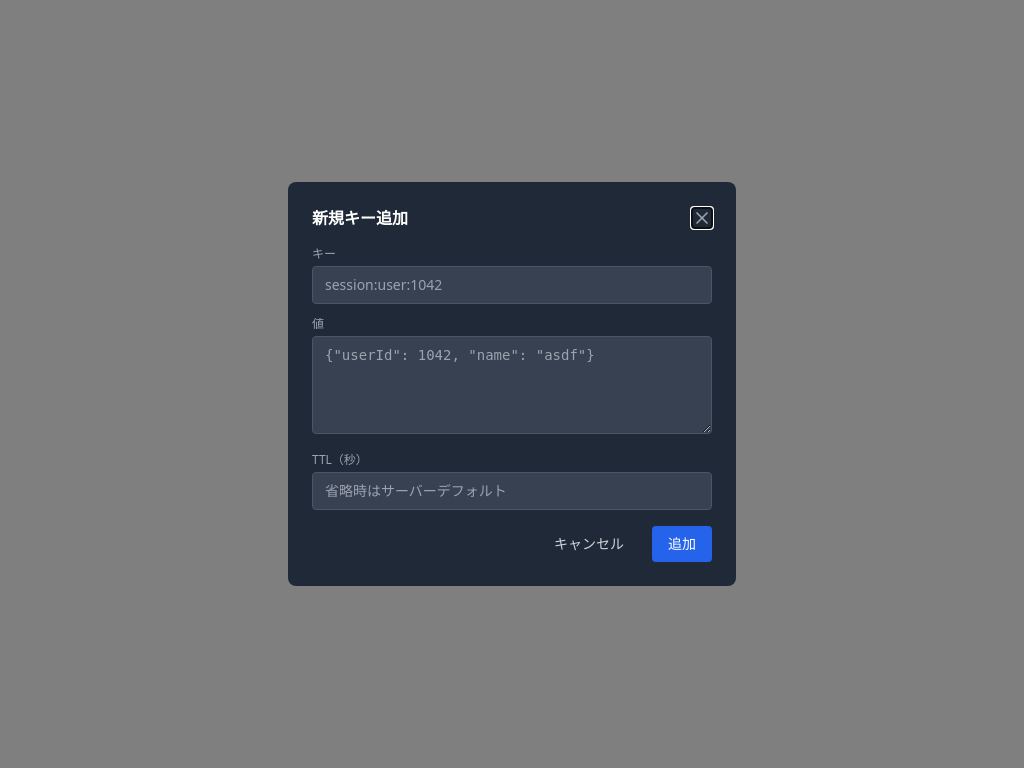
Test case: AddKeyModal › shows error for invalid TTL (negative number)
Type "my:key" into the field labelled "キー" at (512, 285), box [312,266,712,304]
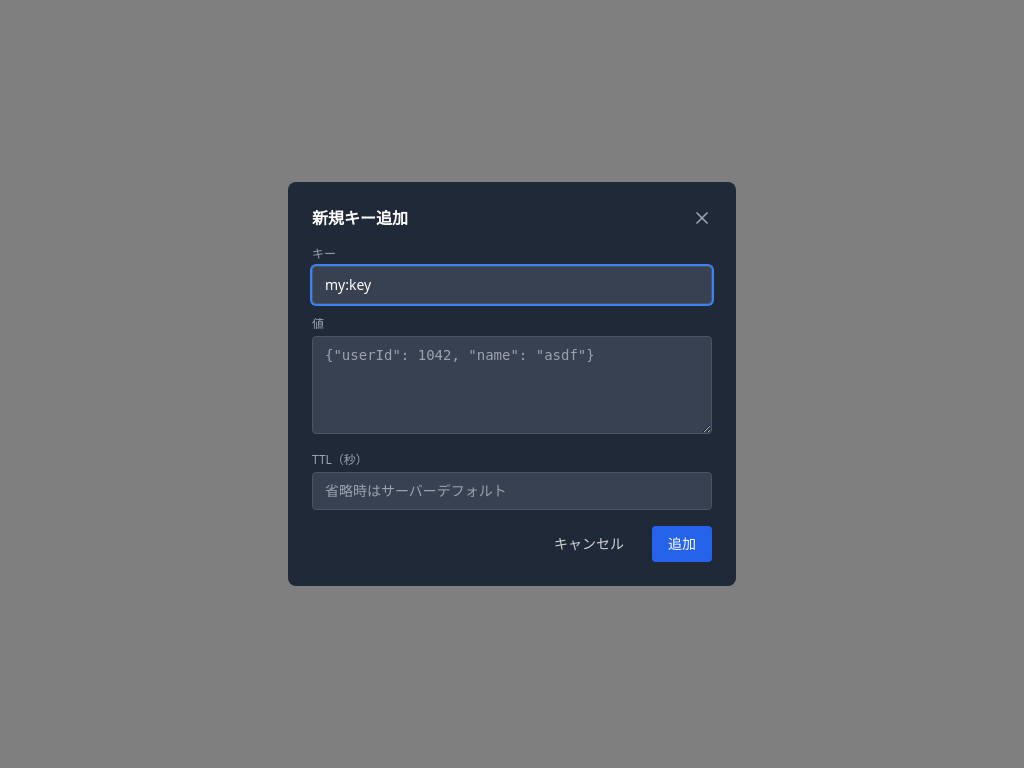
Type "somevalue" into the text box labelled "値" at (512, 385), box [312,336,712,434]
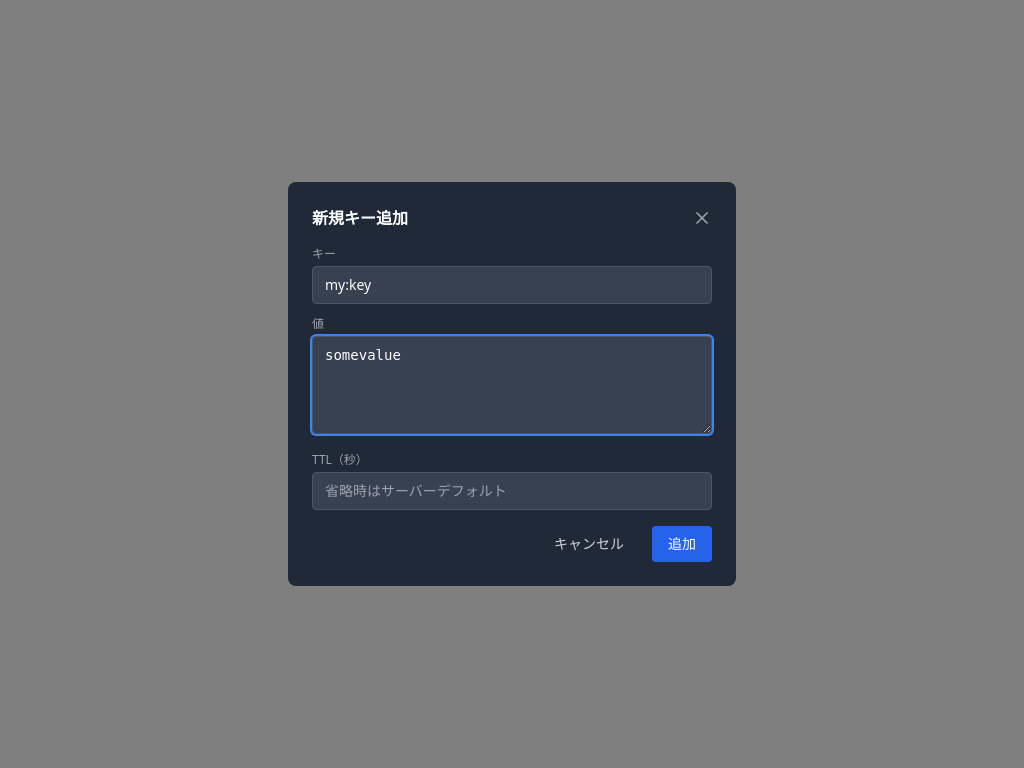
Type "-5" into the number field labelled "TTL（秒）" at (512, 491), box [312,472,712,510]
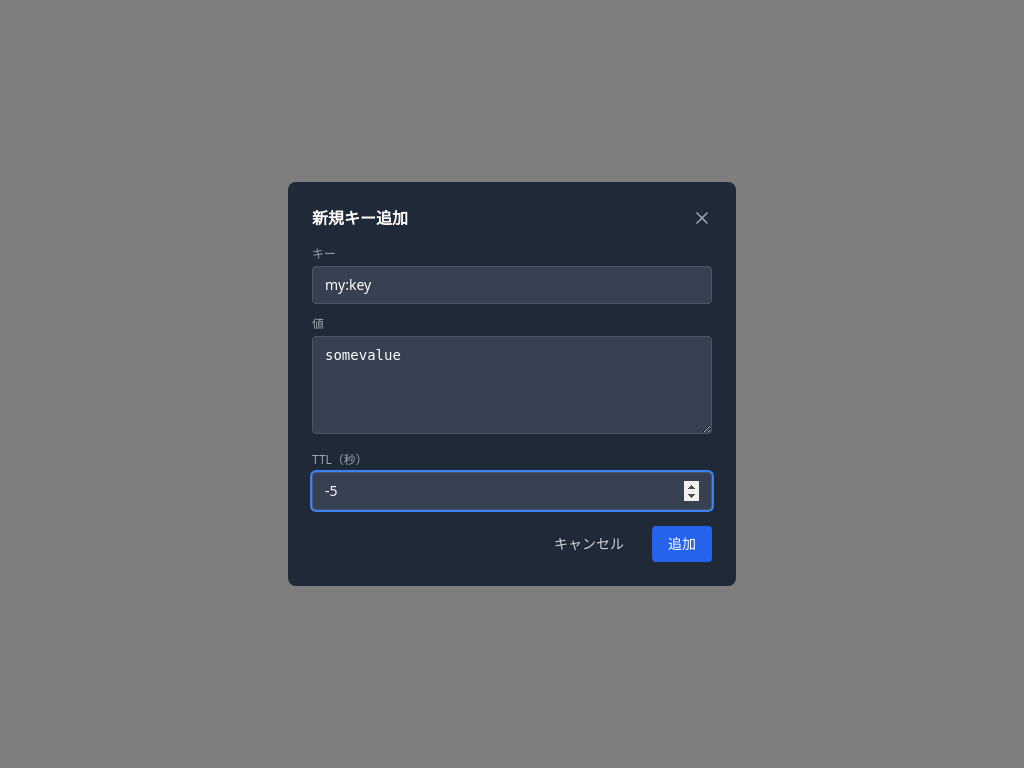
Click the button "追加" at (682, 544), box [652,526,712,562]
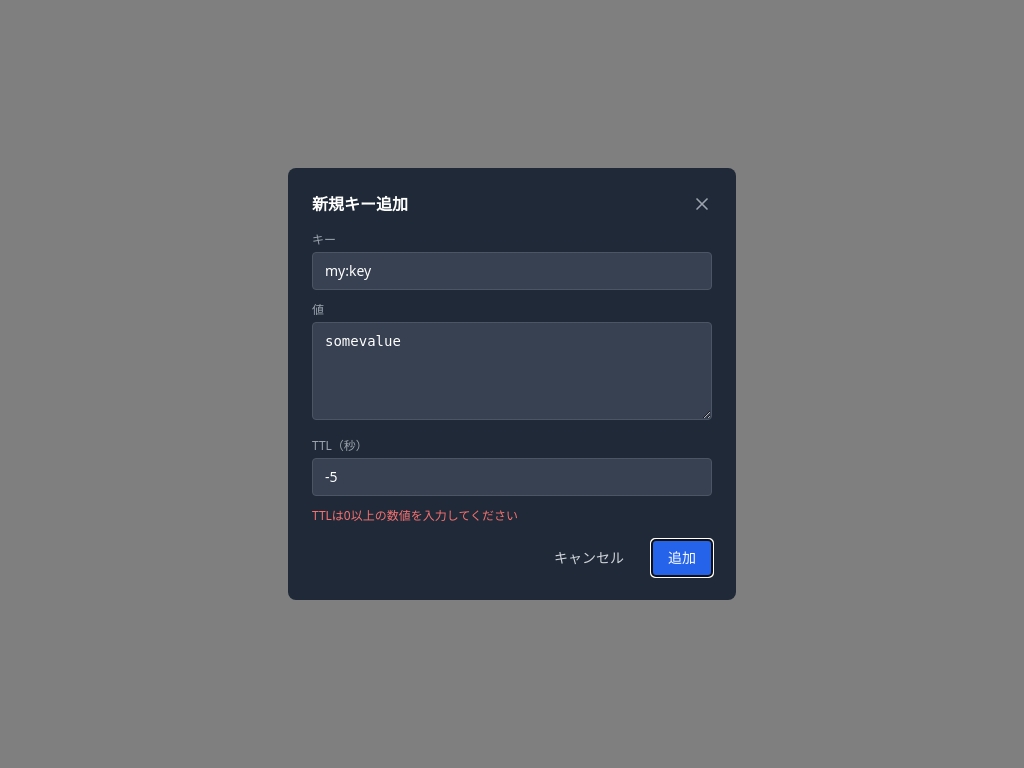
Now the text "TTLは0以上の数値を入力してください" is shown, box [312,507,518,524]
